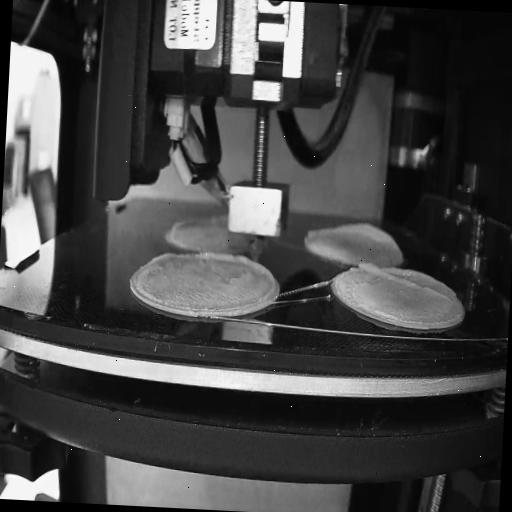over_extrusion: (196, 248, 276, 308), (306, 214, 406, 252), (357, 261, 452, 301), (170, 210, 229, 234), (146, 247, 180, 270)
